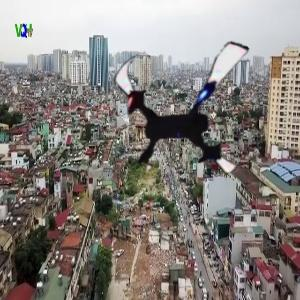drone: (105, 24, 275, 194)
